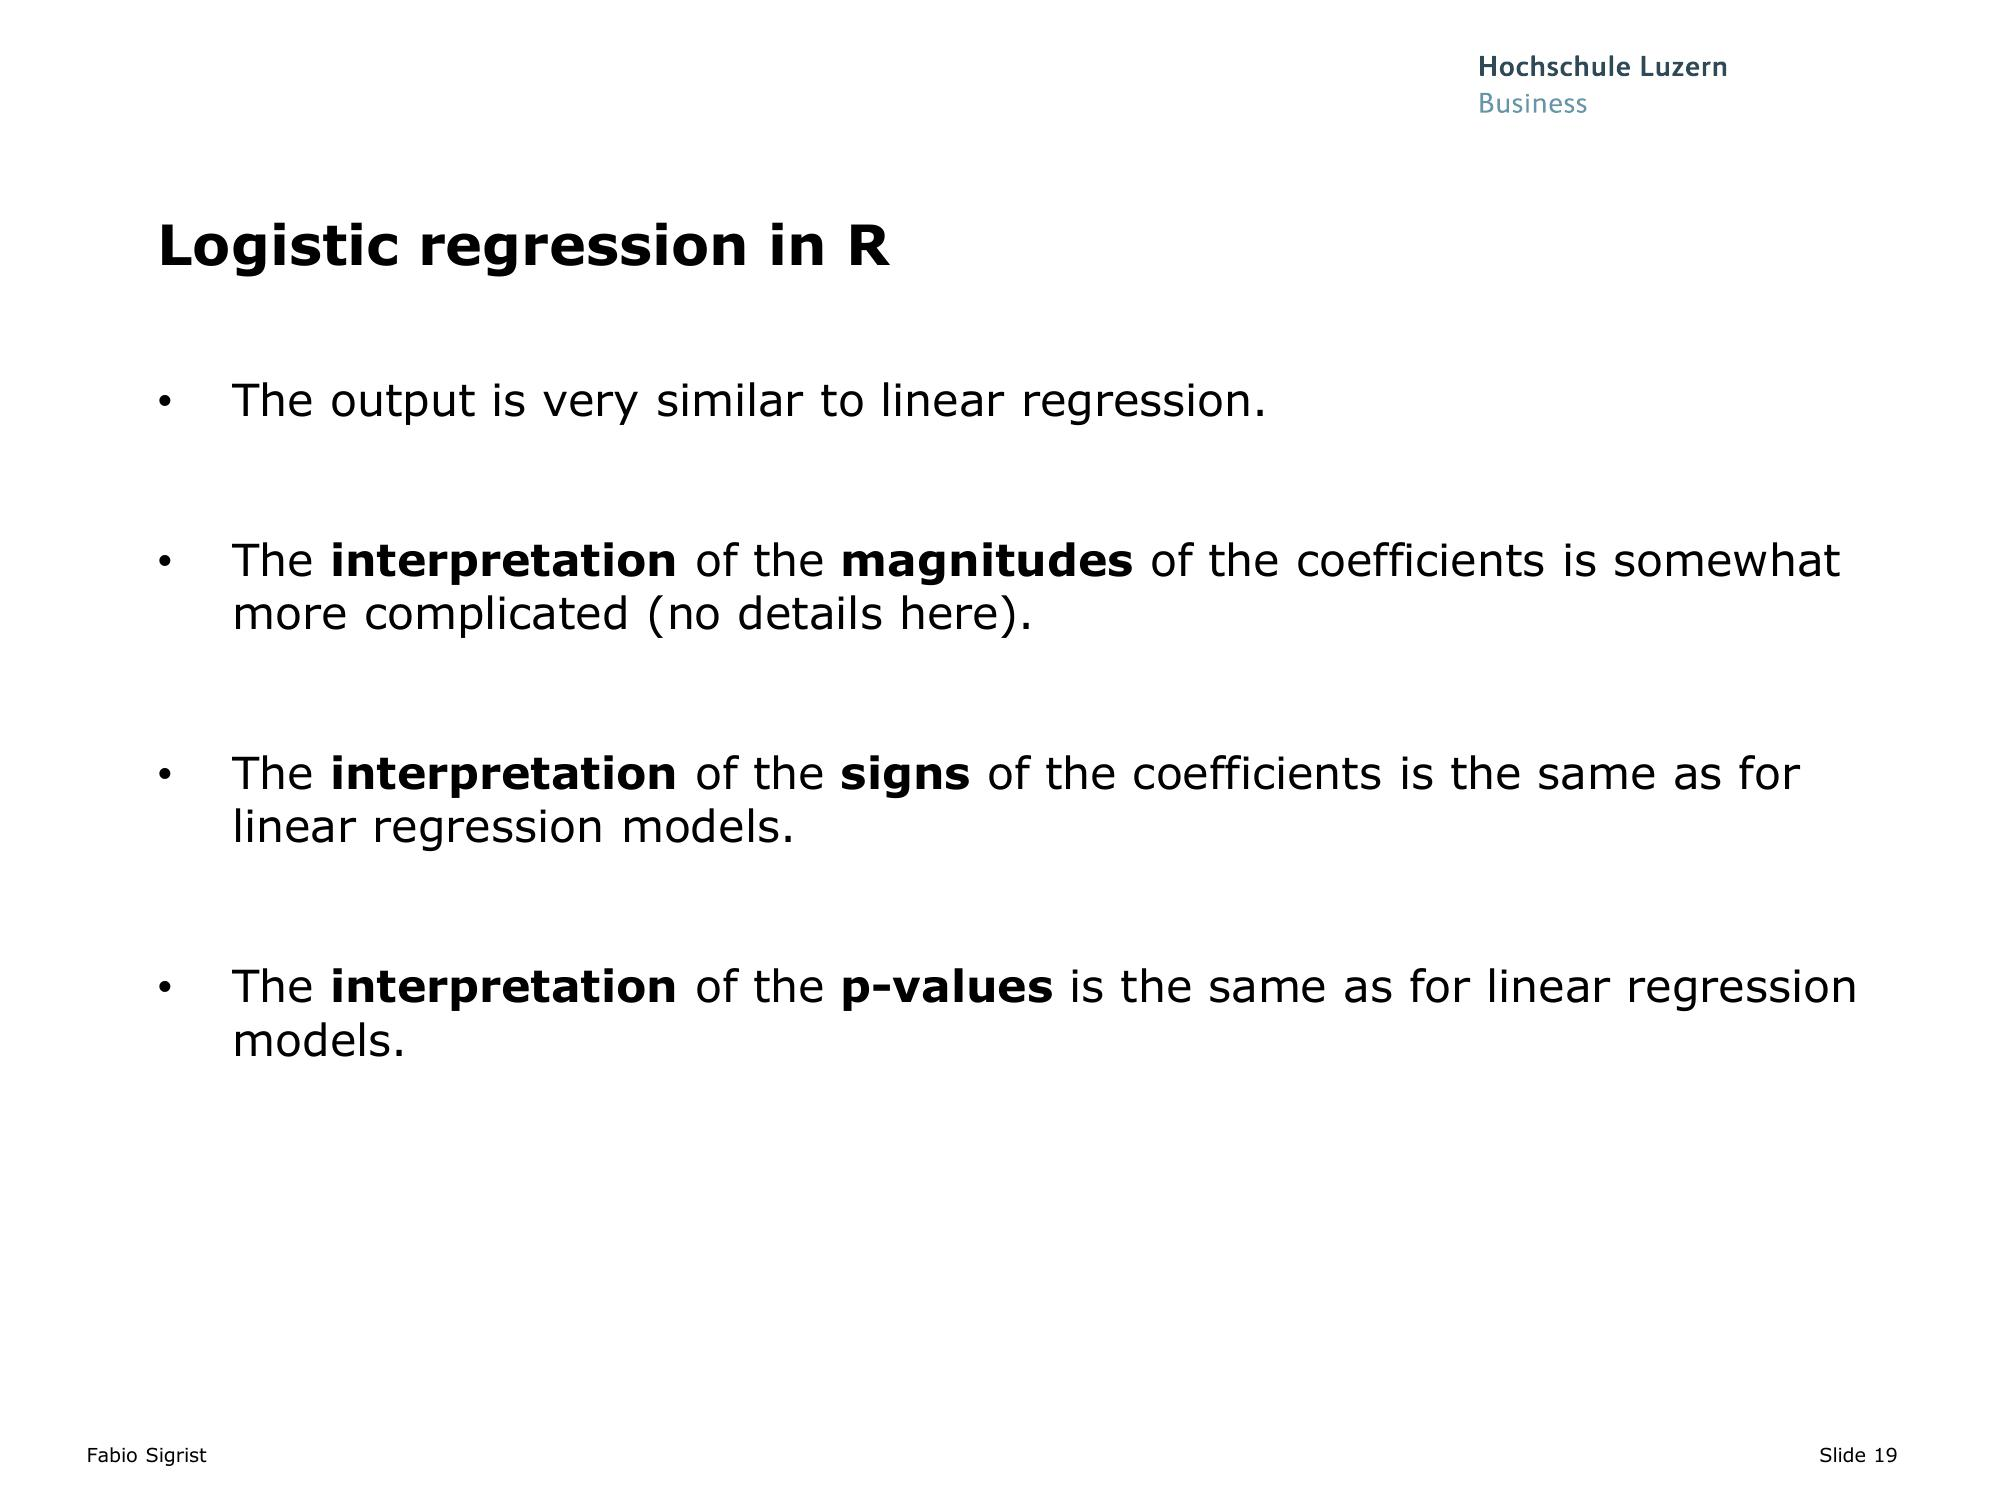Title: (120, 183, 896, 299)
